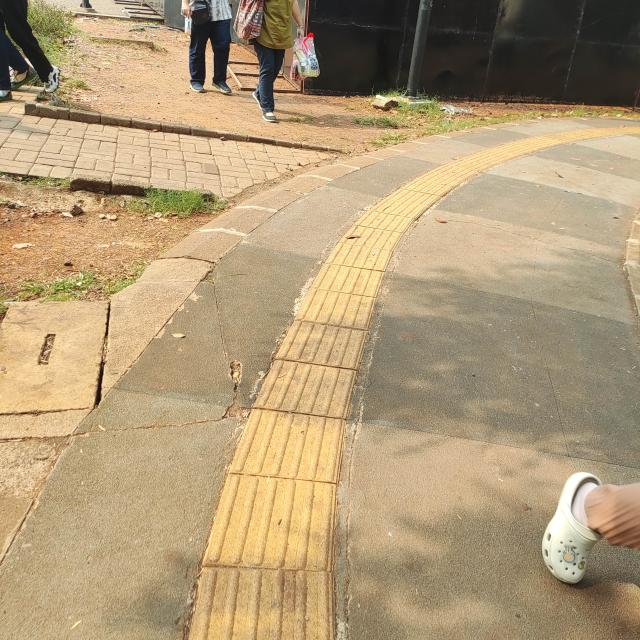lurus: (213, 245, 348, 640)
